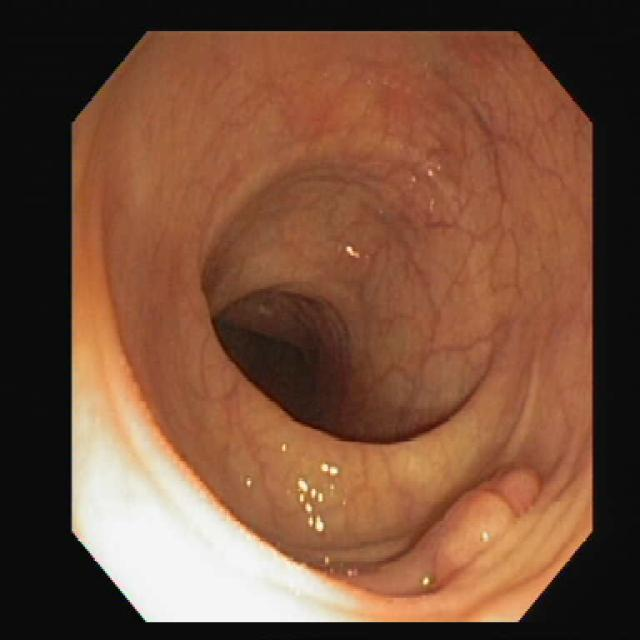tumor: (433, 460, 548, 595)
